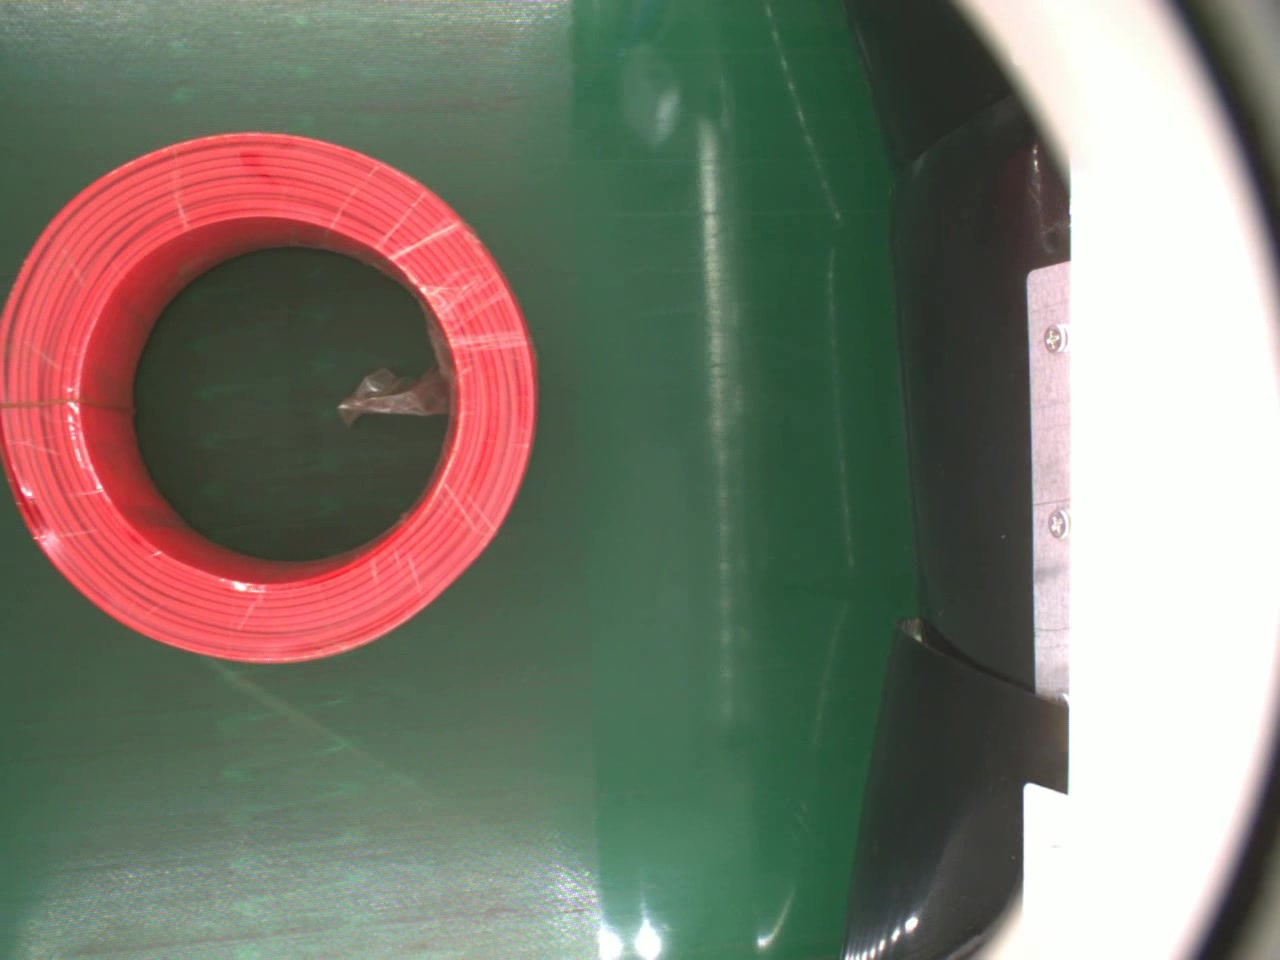red: (1, 131, 536, 681)
